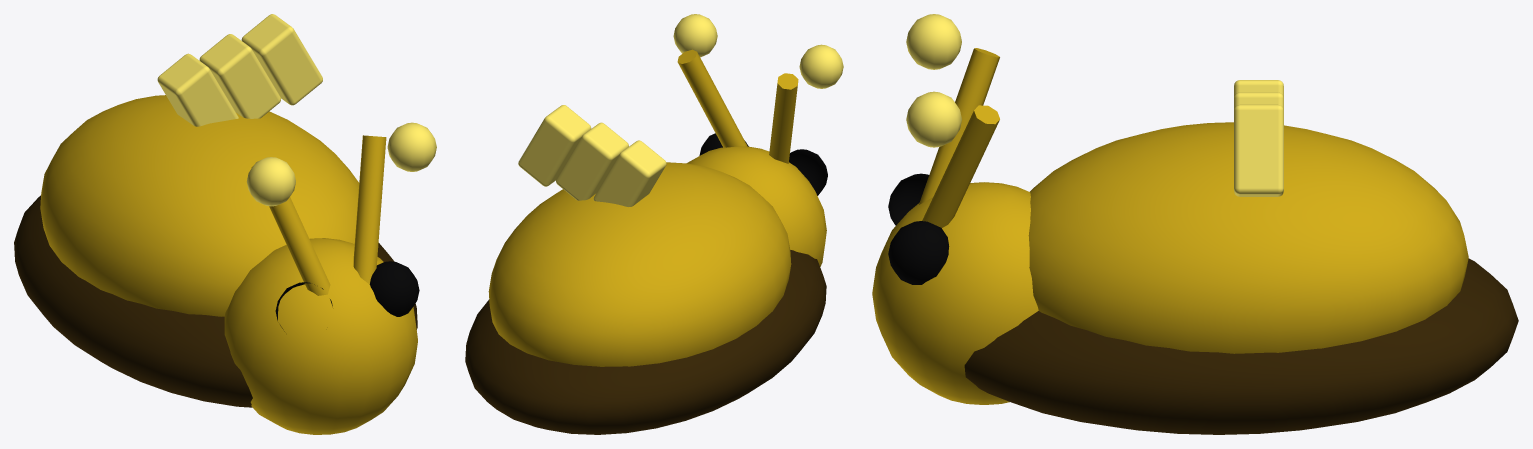
File: zumbido.obj
3 views of the same model, side by side, from view 1: azimuth 30°, elevation 25°; view 2: azimuth 150°, elevation 25°; view 3: azimuth 270°, elevation 25° (orthographic). The views are drawn at different scales.
Size of the model in its own units: 0.4 by 0.378 by 0.647.
